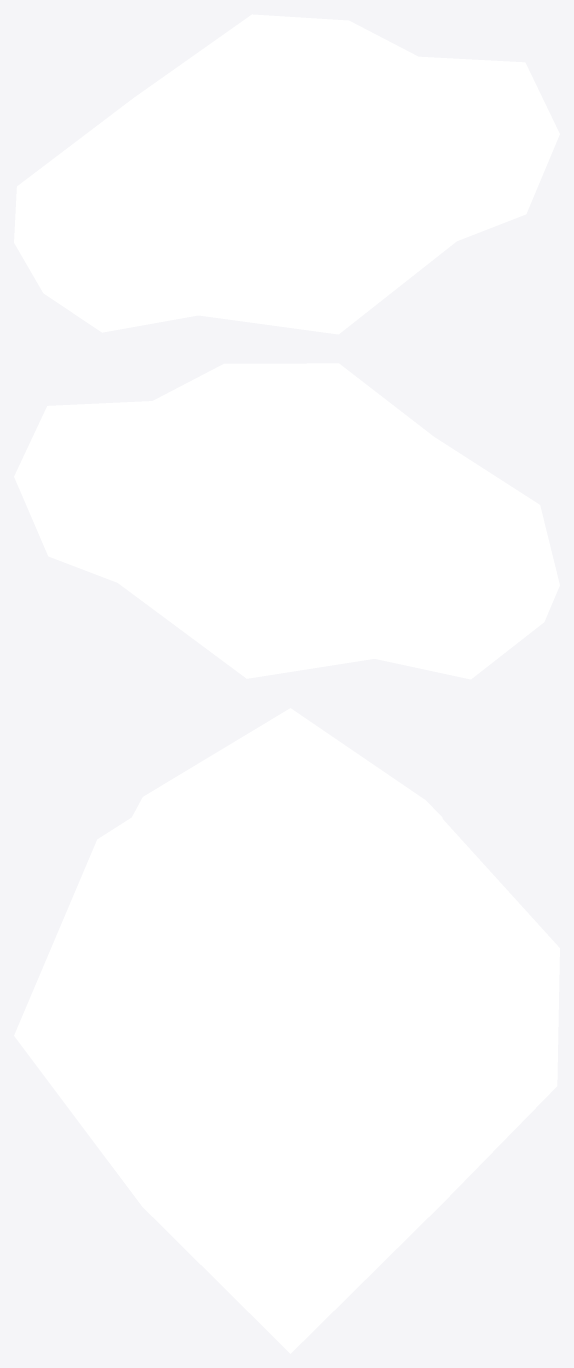
File: cloud-small.glb
The picture shows the model from 3 angles, top to bottom: view 1: azimuth 30°, elevation 25°; view 2: azimuth 150°, elevation 25°; view 3: azimuth 270°, elevation 25°; orthographic projection. The views are drawn at different scales.
Parts seen in each view (by area): view 1: cloud-small; view 2: cloud-small; view 3: cloud-small.
Part boxes in pixels (left/top/right/bottom): cloud-small: left=14, top=14, right=559, bottom=334; cloud-small: left=14, top=363, right=559, bottom=679; cloud-small: left=14, top=708, right=559, bottom=1353.
Bounding box in the file's own units: 4.4 × 2.17 × 2.36.
Materials: 1 (1 with a texture image).
